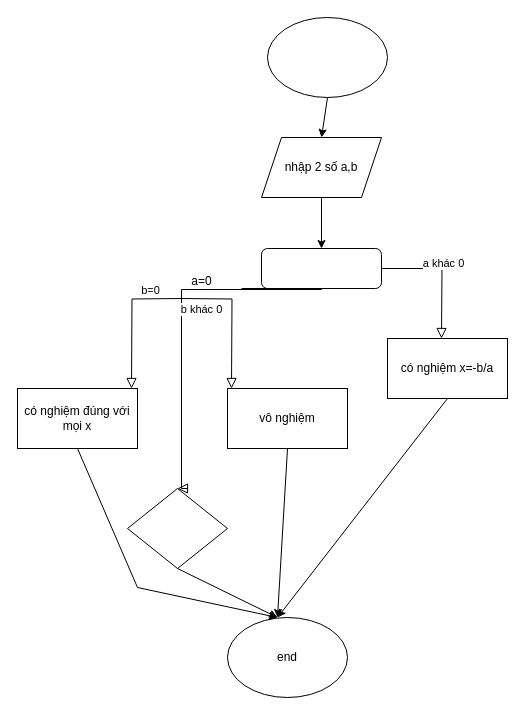
Image size: 525x715. Some labels were removed from this diagram. The box of each missing label's shape, as (x1, y1, x2, y2) in pixels:
else print không đạt: (126, 488, 228, 568)
pt bậc nhất ax+b: (260, 248, 382, 288)
start: (266, 16, 388, 98)
